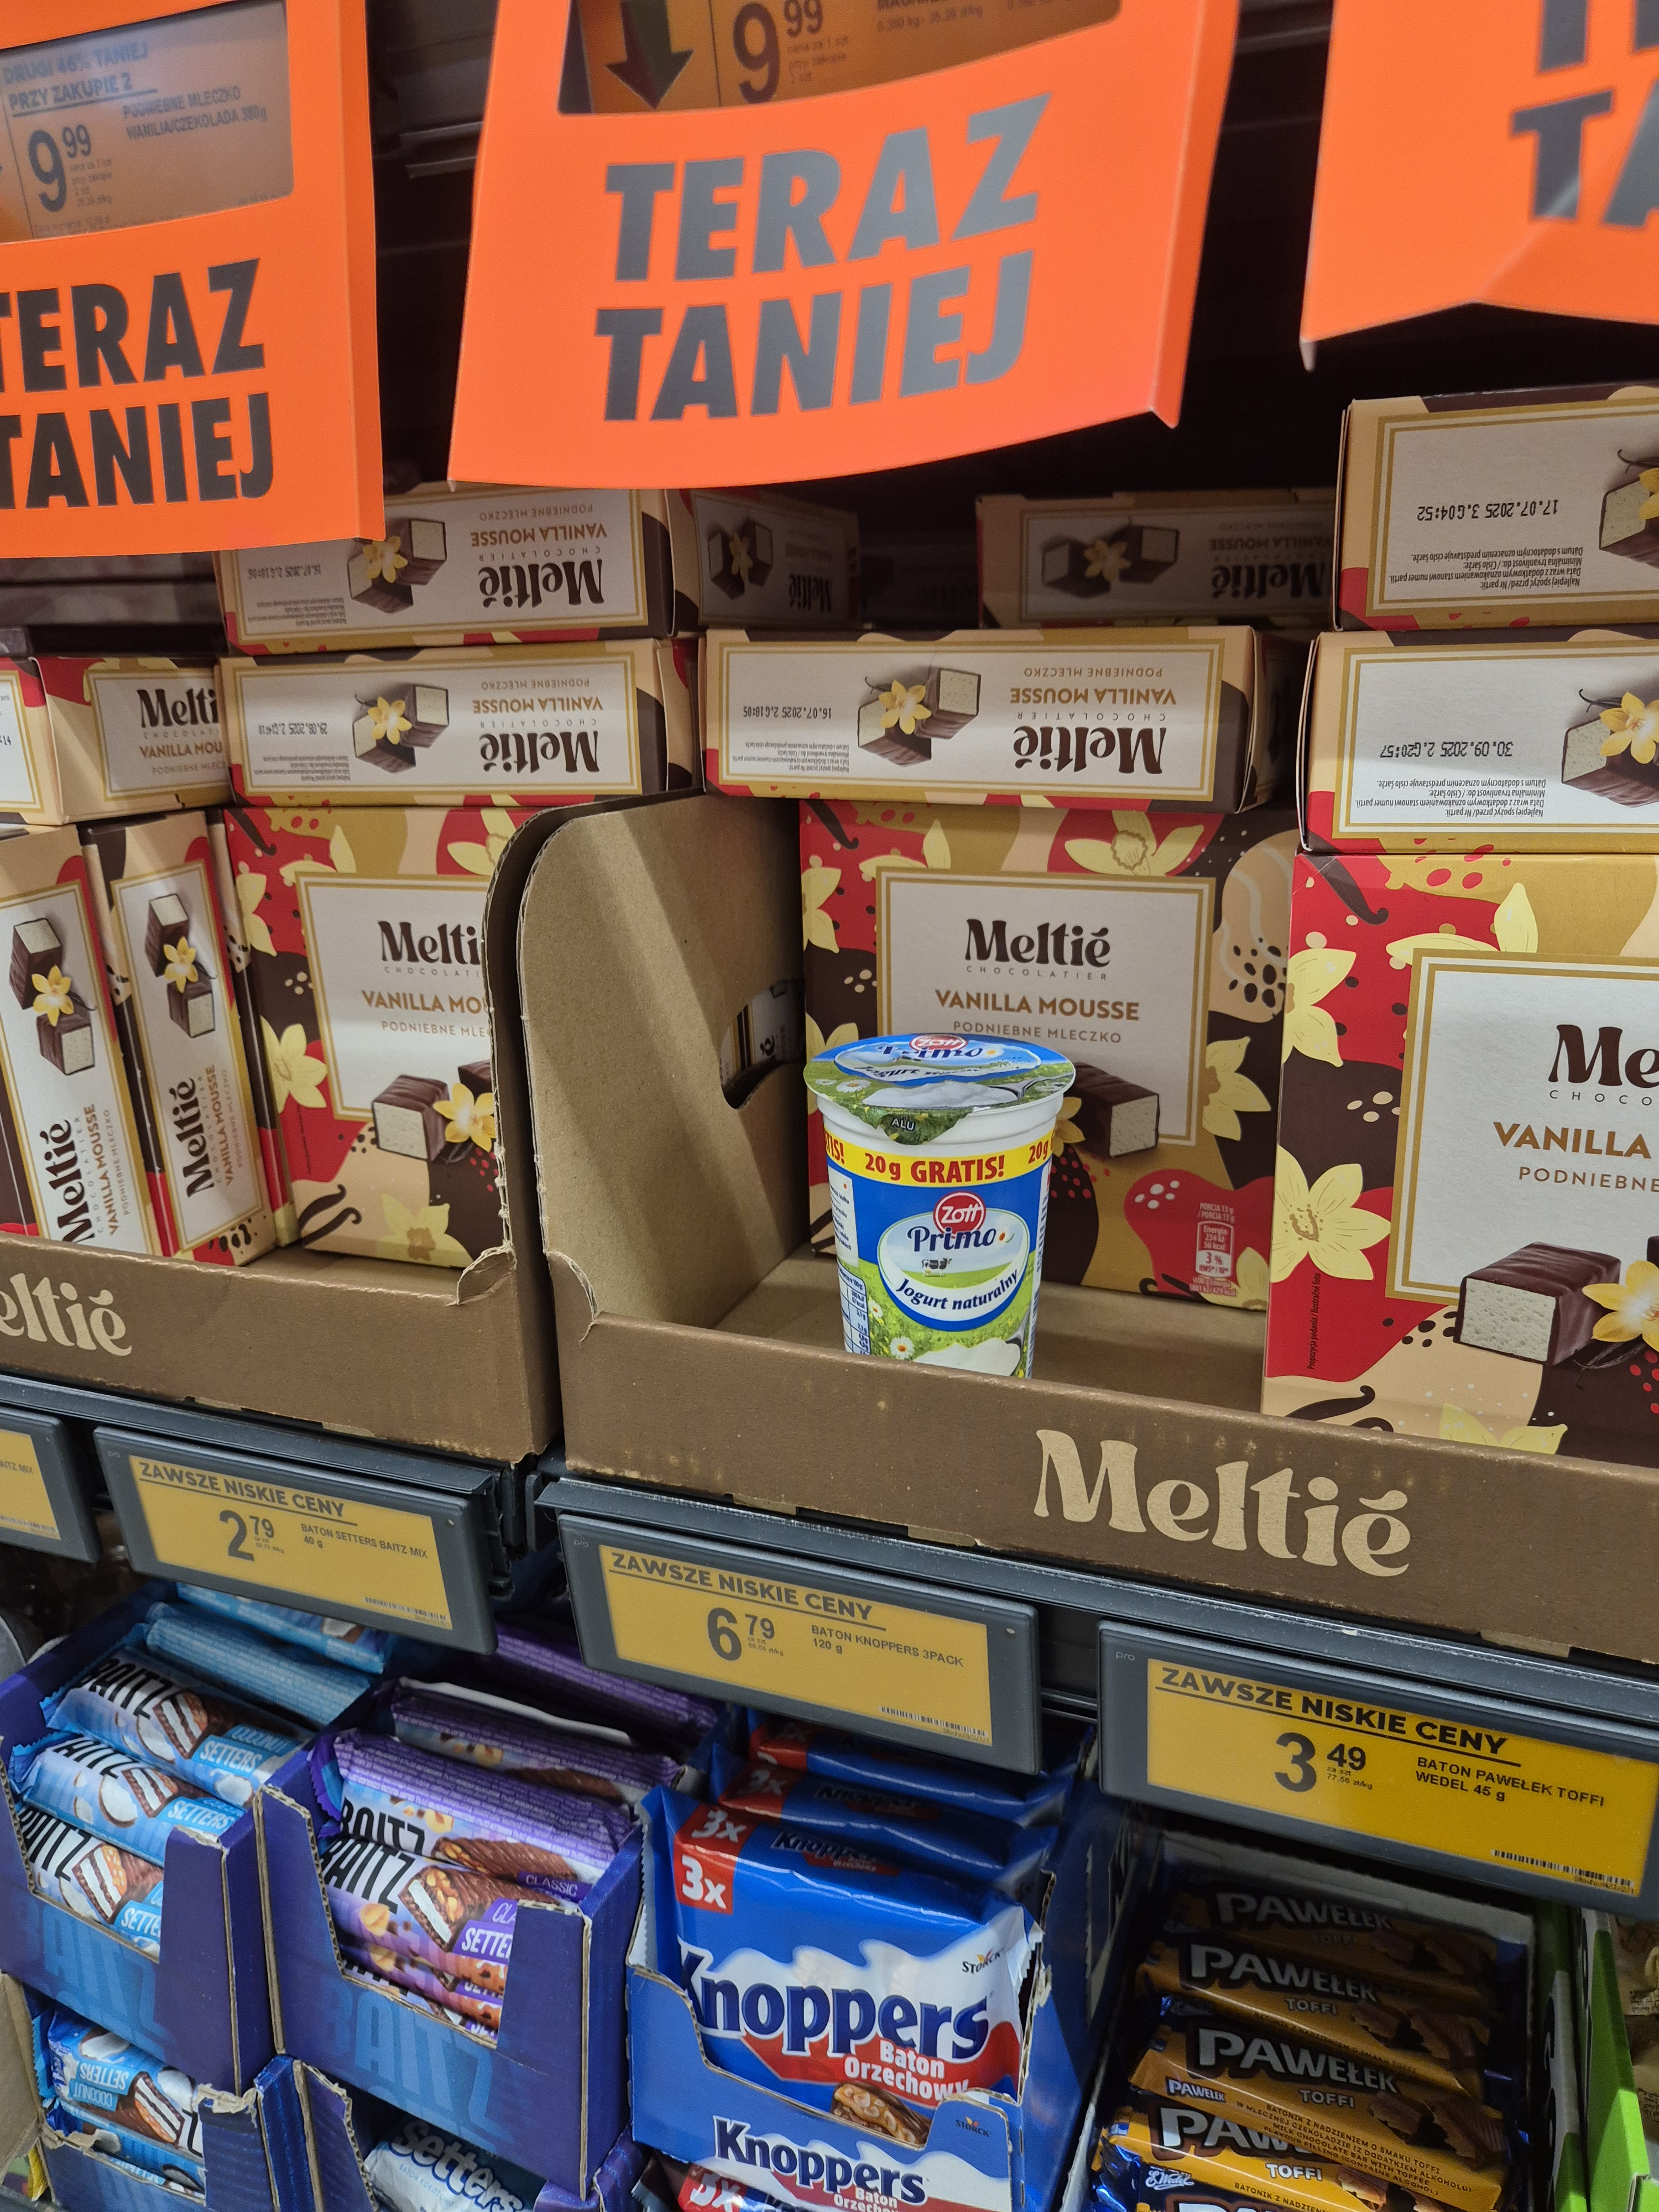Yogurt: (821, 1024, 1121, 1411)
